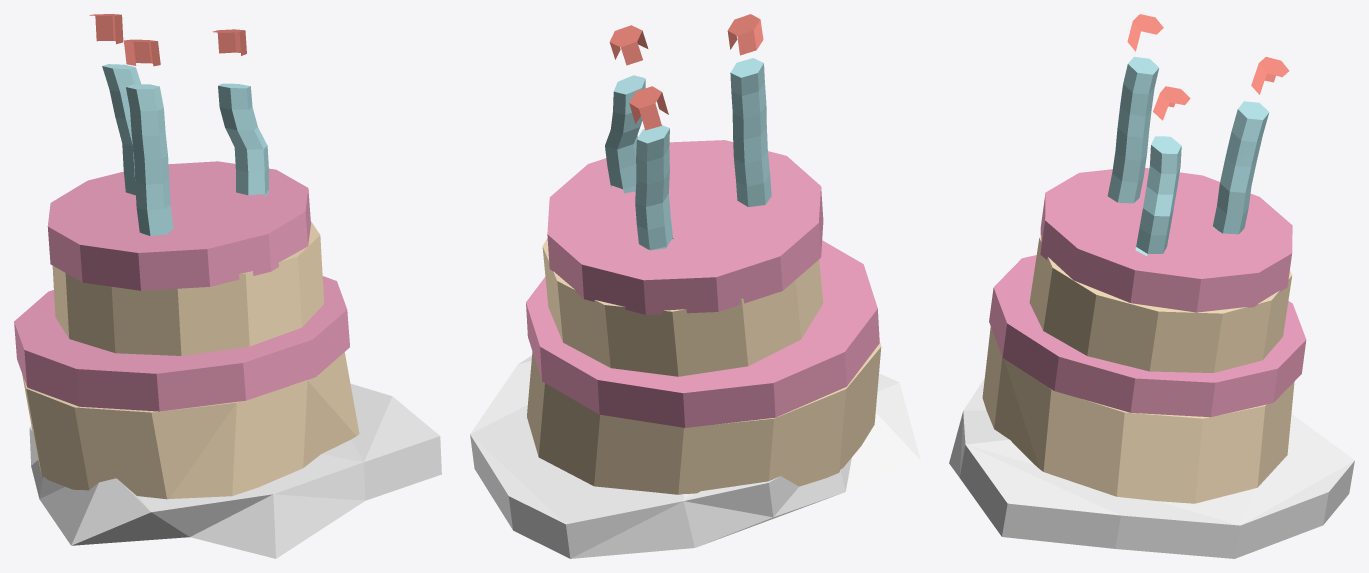
3 renders of one model, left to right at view 1: azimuth 30°, elevation 25°; view 2: azimuth 150°, elevation 25°; view 3: azimuth 270°, elevation 25°, orthographic. The views are drawn at different scales.
Visible parts, largest first — view 1: Node; view 2: Node; view 3: Node.
Boxes of the visible parts, box(x1,y1,x2,y2) form: Node: box(14, 14, 441, 558); Node: box(470, 14, 920, 558); Node: box(949, 14, 1354, 558).
Size of the model in its own units: 0.7235 by 0.9031 by 0.7478.
